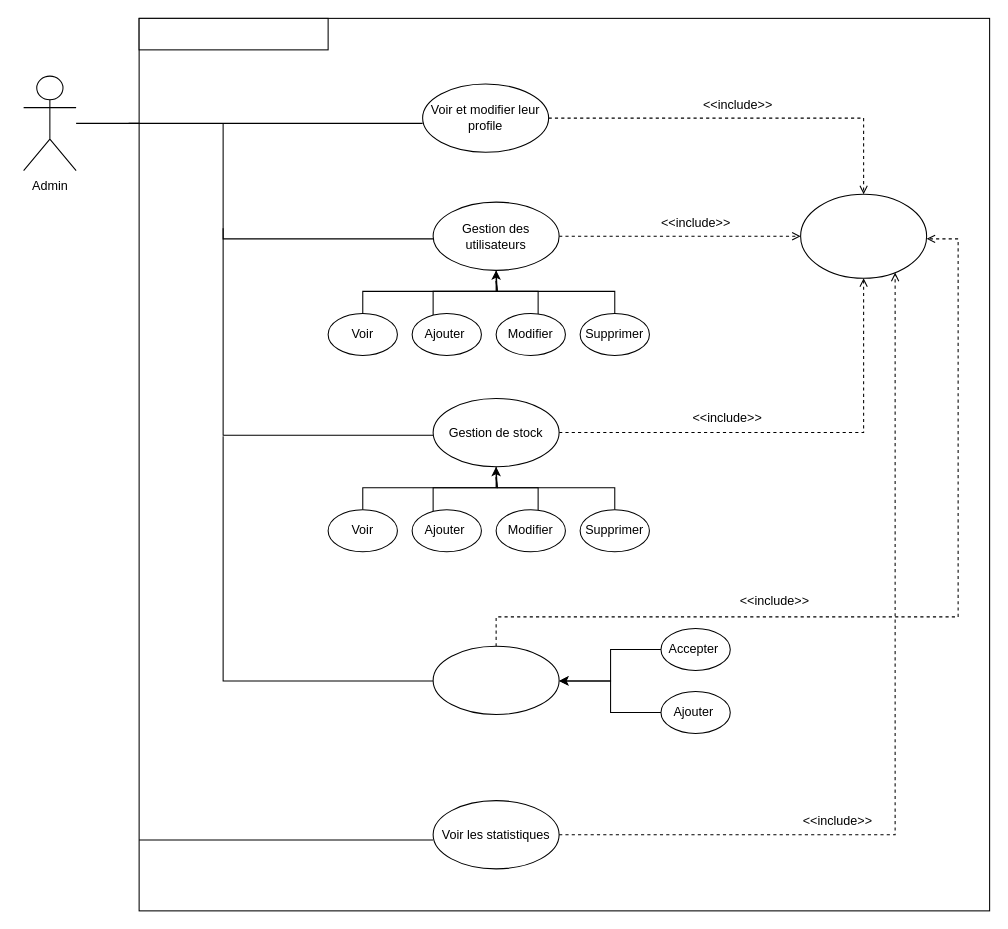
Some shapes in this 1008 by 929 pixel diagram are drawn without their labels. The centre of each missing label's shape, as x and y in pixels:
"Authentification" belongs at point 863,235.
"Gestion des demandes d'affectations" belongs at point 495,680.
"Gestion du stock" belongs at point 233,33.
